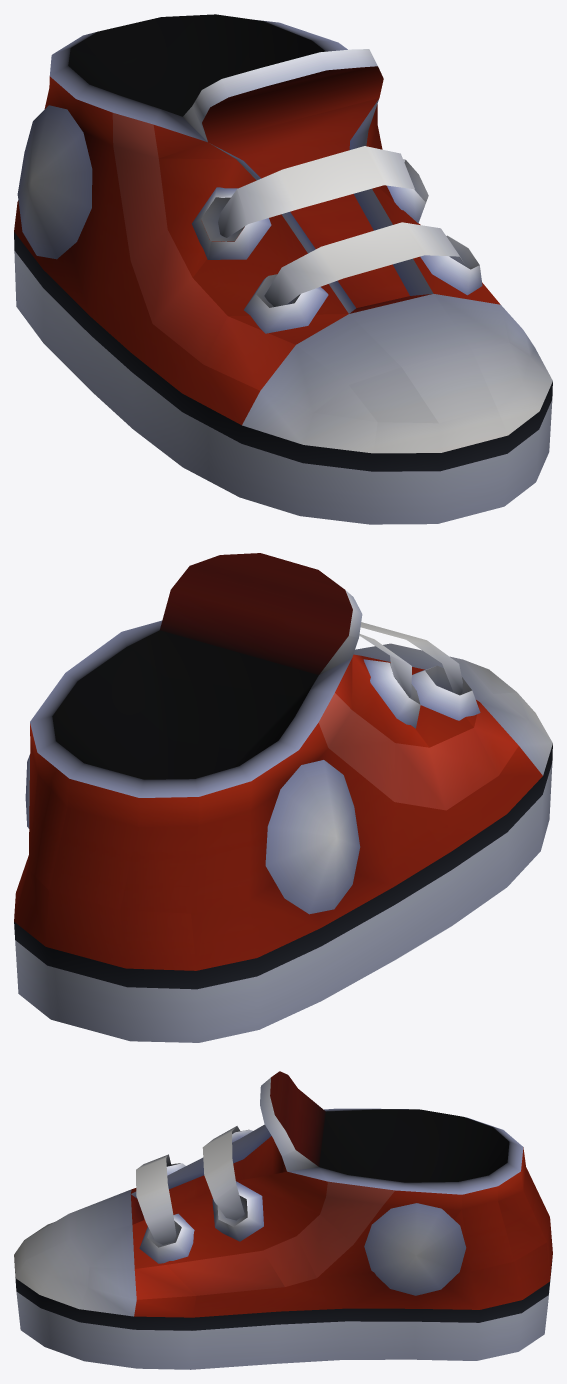
File: Shoes_Kicks_Red_R.gltf
3 views of the same model, one above another, from view 1: azimuth 30°, elevation 25°; view 2: azimuth 150°, elevation 25°; view 3: azimuth 270°, elevation 25° (orthographic). The views are drawn at different scales.
Visible parts, largest first — view 1: Shoes_Kicks_Red_R; view 2: Shoes_Kicks_Red_R; view 3: Shoes_Kicks_Red_R.
Part boxes in pixels (x1,y1,x2,y2): Shoes_Kicks_Red_R: (14,14,552,524); Shoes_Kicks_Red_R: (14,553,552,1042); Shoes_Kicks_Red_R: (14,1071,552,1369).
Bounding box in the file's own units: 0.3008 × 0.3011 × 0.6317.
Materials: 2 (2 with a texture image).
